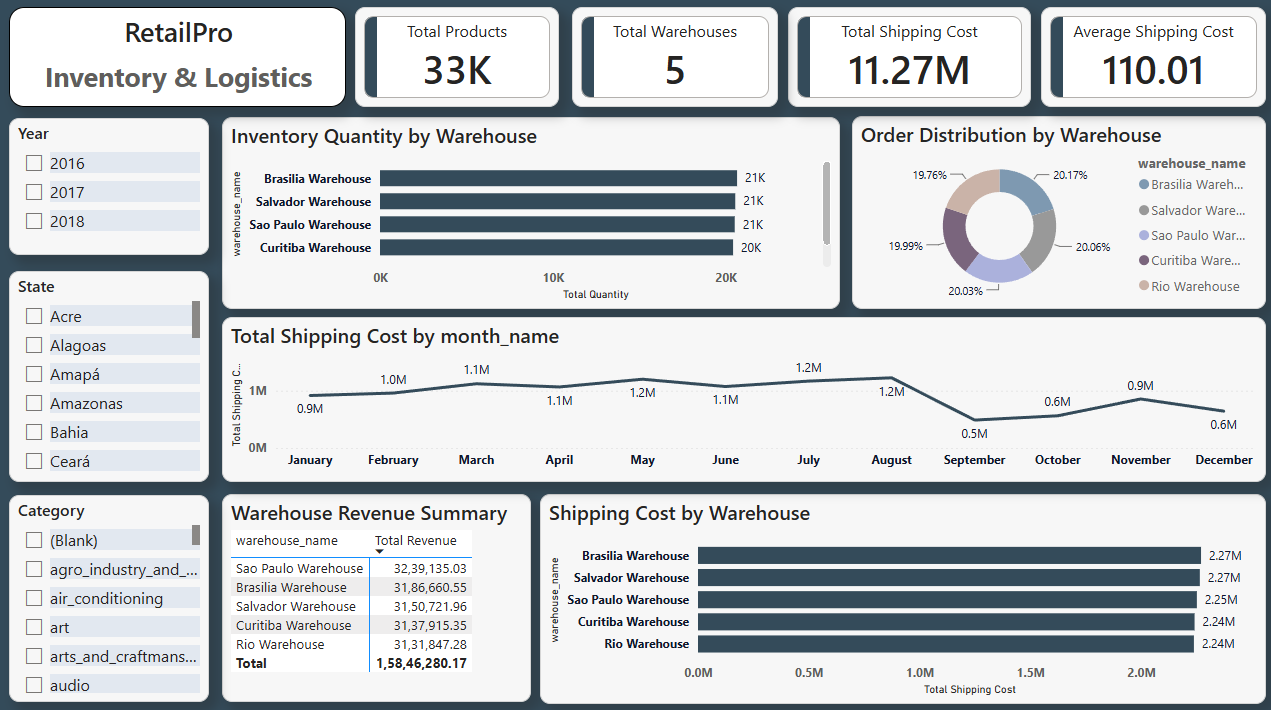

The dashboard page shown, as its layout file describes it:
{"tool":"powerbi","page":{"name":"Inventory & Logistics","canvas":[1280,720],"ordinal":2},"visuals":[{"type":"clusteredBarChart","title":"Inventory Quantity by Warehouse","fields":{"Category":["dim_warehouse.warehouse_name"],"Y":["fact_sales.Total Quantity"]},"box":[225,121.2,617.5,191.2],"z":0},{"type":"textbox","title":"Retailsphere","box":[12.1,10.9,336.6,100.1],"z":1000},{"type":"donutChart","title":"Order Distribution by Warehouse","fields":{"Category":["dim_warehouse.warehouse_name"],"Y":["fact_sales.Orders Count"]},"box":[855,120,413.8,192.5],"z":2000},{"type":"pivotTable","title":"Warehouse Revenue Summary","fields":{"Rows":["dim_warehouse.warehouse_name"],"Values":["fact_sales.Total Revenue"]},"box":[225,497.5,308.8,208.8],"z":3000},{"type":"slicer","title":"Year","fields":{"Values":["dim_date.year"]},"box":[12.1,121.9,200.3,137.5],"z":4000},{"type":"slicer","title":"State","fields":{"Values":["dim_customer.State Name"]},"box":[12.1,275.1,200.3,211.1],"z":5000},{"type":"slicer","title":"Category","fields":{"Values":["dim_product.category_name"]},"box":[12.1,499.5,200.3,206.3],"z":6000},{"type":"cardVisual","fields":{"Data":["fact_sales.Total Products"]},"box":[358.3,10.9,203.9,100.1],"z":7000},{"type":"cardVisual","fields":{"Data":["fact_sales.Total Shipping Cost"]},"box":[791.4,10.9,242.5,100.1],"z":8000},{"type":"cardVisual","fields":{"Data":["fact_sales.Total Warehouses"]},"box":[575.5,10.9,205.1,100.1],"z":9000},{"type":"cardVisual","fields":{"Data":["fact_sales.Average Shipping Cost"]},"box":[1043.6,10.9,225.6,100.1],"z":10000},{"type":"barChart","title":"Shipping Cost by Warehouse","fields":{"Category":["dim_warehouse.warehouse_name"],"Y":["fact_sales.Total Shipping Cost"]},"box":[542.5,497.5,726.2,210],"z":11000},{"type":"lineChart","fields":{"Category":["dim_date.month_name"],"Y":["fact_sales.Total Shipping Cost"]},"box":[225,321.2,1043.8,165],"z":12000}]}

Visuals, with their boxes in screenshot pixels (x1, y1, x2, y2), scaled from the page's 1280x720 canvas onto the 1271x710 screenshot:
"Inventory Quantity by Warehouse" clusteredBarChart: bbox=(223, 120, 837, 308)
"Retailsphere" textbox: bbox=(12, 11, 346, 109)
"Order Distribution by Warehouse" donutChart: bbox=(849, 118, 1260, 308)
"Warehouse Revenue Summary" pivotTable: bbox=(223, 491, 530, 696)
"Year" slicer: bbox=(12, 120, 211, 256)
"State" slicer: bbox=(12, 271, 211, 479)
"Category" slicer: bbox=(12, 493, 211, 696)
cardVisual - fact_sales.Total Products: bbox=(356, 11, 558, 109)
cardVisual - fact_sales.Total Shipping Cost: bbox=(786, 11, 1027, 109)
cardVisual - fact_sales.Total Warehouses: bbox=(571, 11, 775, 109)
cardVisual - fact_sales.Average Shipping Cost: bbox=(1036, 11, 1260, 109)
"Shipping Cost by Warehouse" barChart: bbox=(539, 491, 1260, 698)
lineChart - dim_date.month_name x fact_sales.Total Shipping Cost: bbox=(223, 317, 1260, 479)
